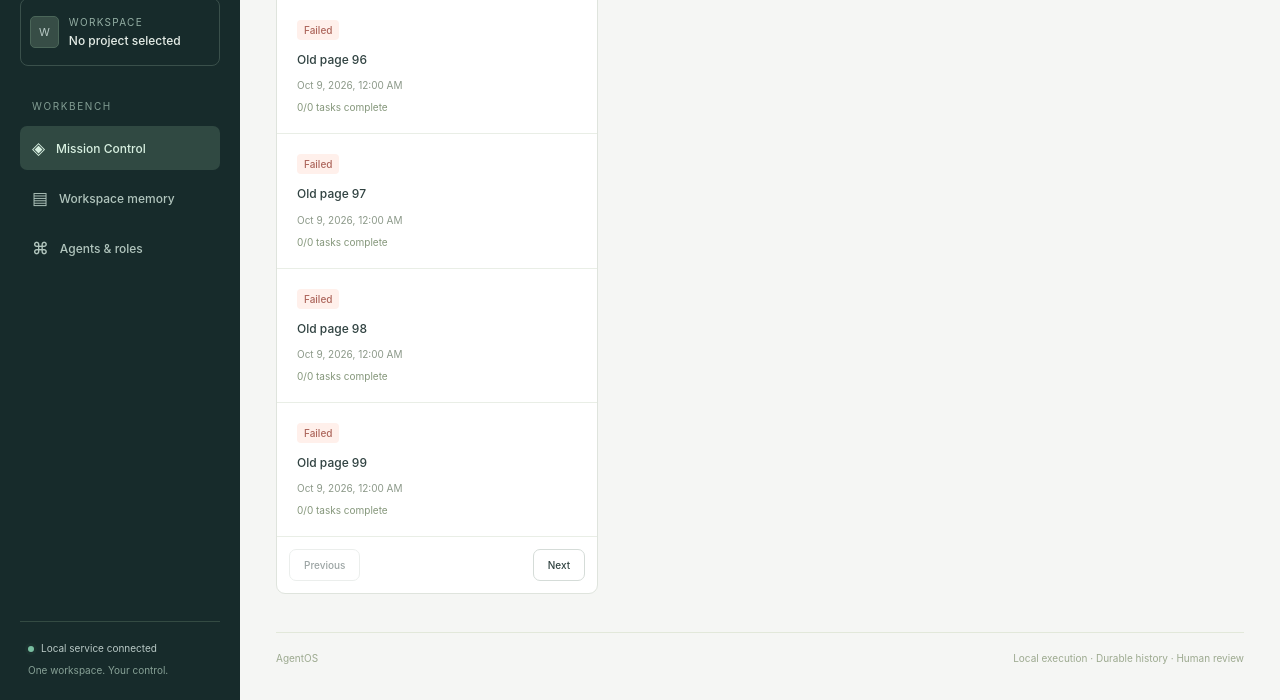
Test: new filters reset pagination and obsolete results cannot overwrite current matches
(page scrolled)
Click the button "Next": click(559, 565) x1=533 y1=549 x2=585 y2=581
(page scrolled)
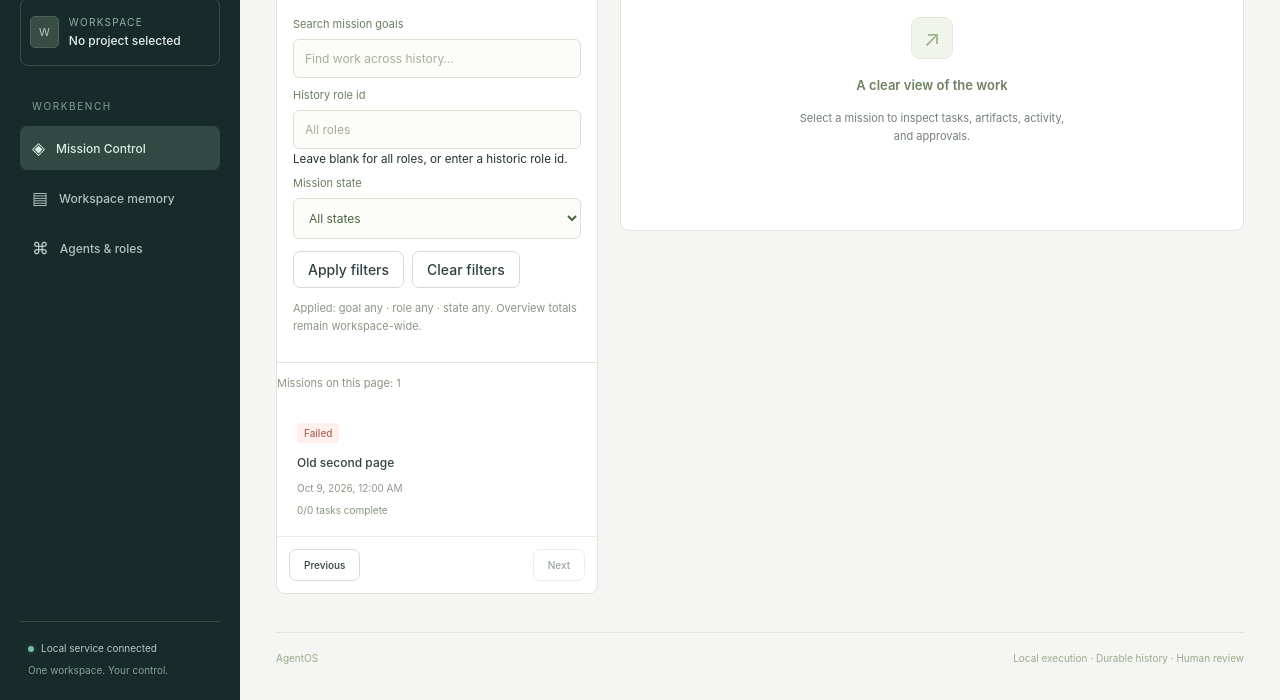
Check: the button "Previous" is enabled, box x1=289 y1=549 x2=360 y2=581
In the search field labelled "Search mission goals": (437, 58) x1=293 y1=39 x2=581 y2=78, type "needle"
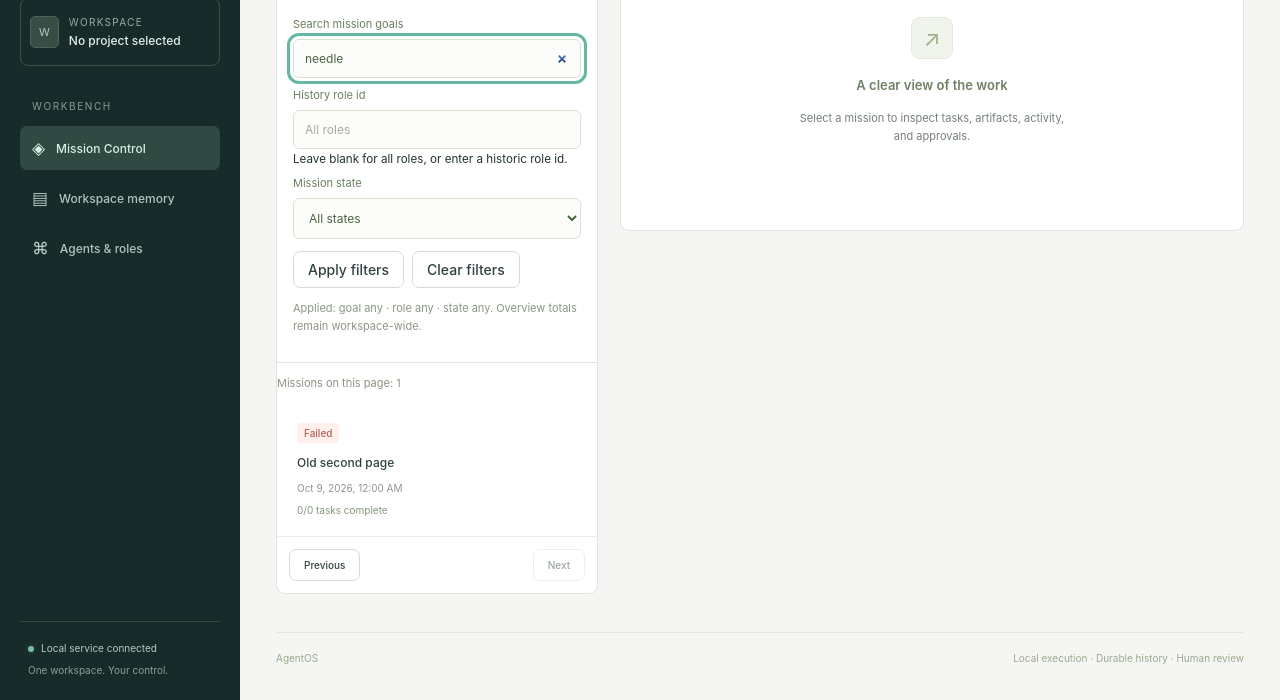
Click the button "Apply filters": click(349, 269) x1=293 y1=251 x2=404 y2=288
(page scrolled)
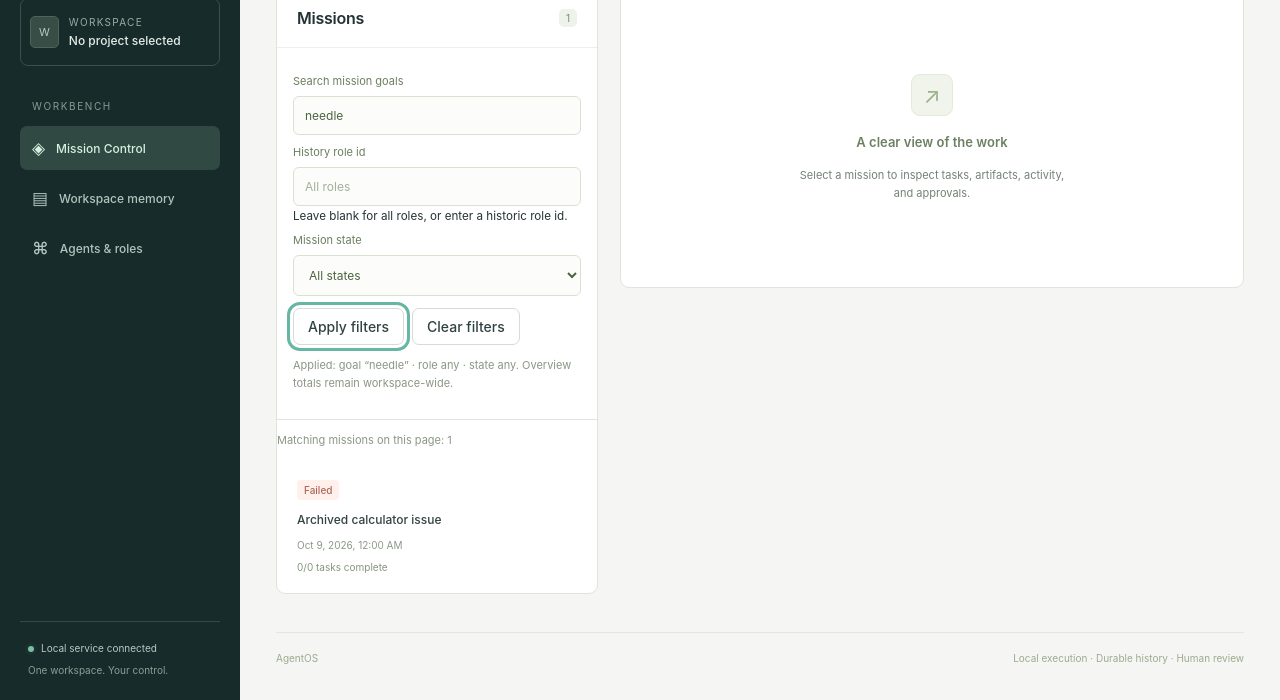
Check: the button "Previous" is gone
Check: the button "Archived calculator issue" is shown, box x1=277 y1=460 x2=597 y2=593
